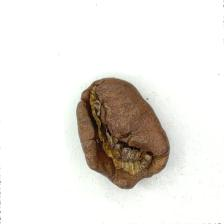NG: (84, 123, 166, 190)
